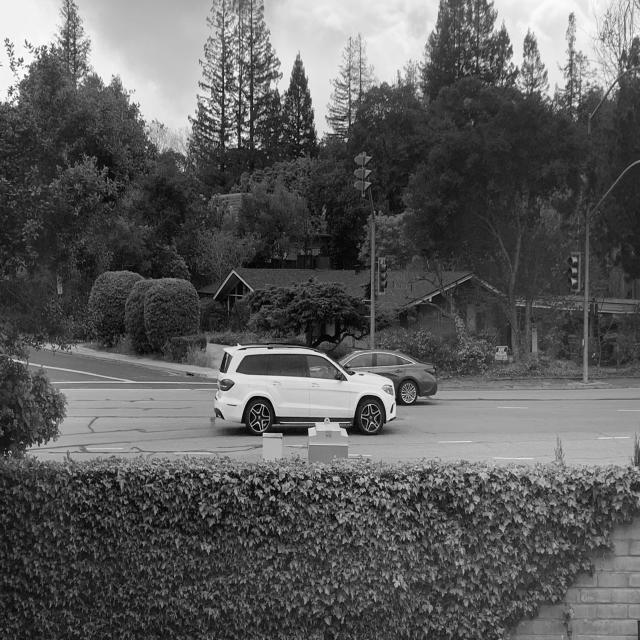SUV: (214, 343, 397, 435)
